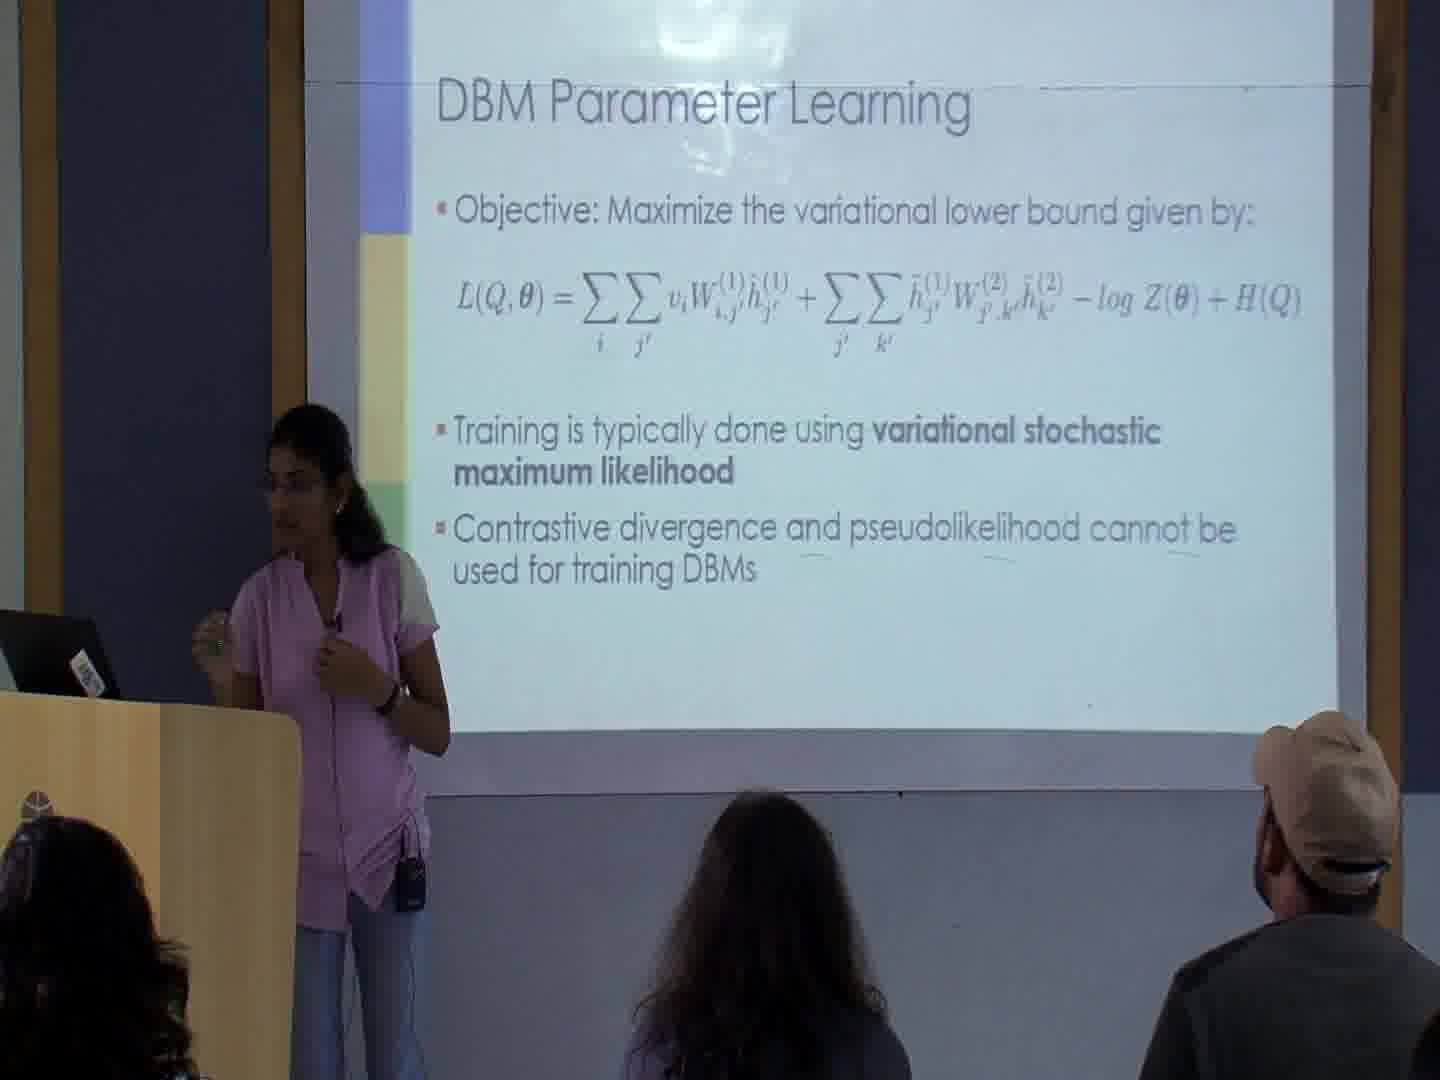eq: (449, 262, 1305, 358)
